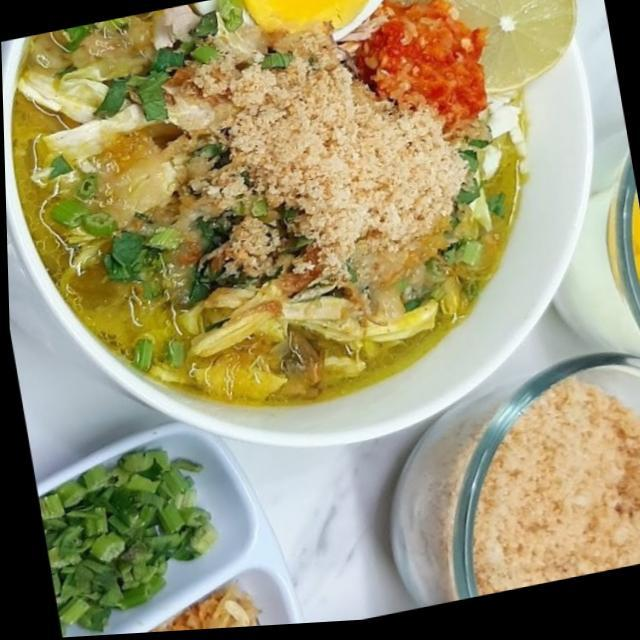Soto: (15, 0, 529, 406)
